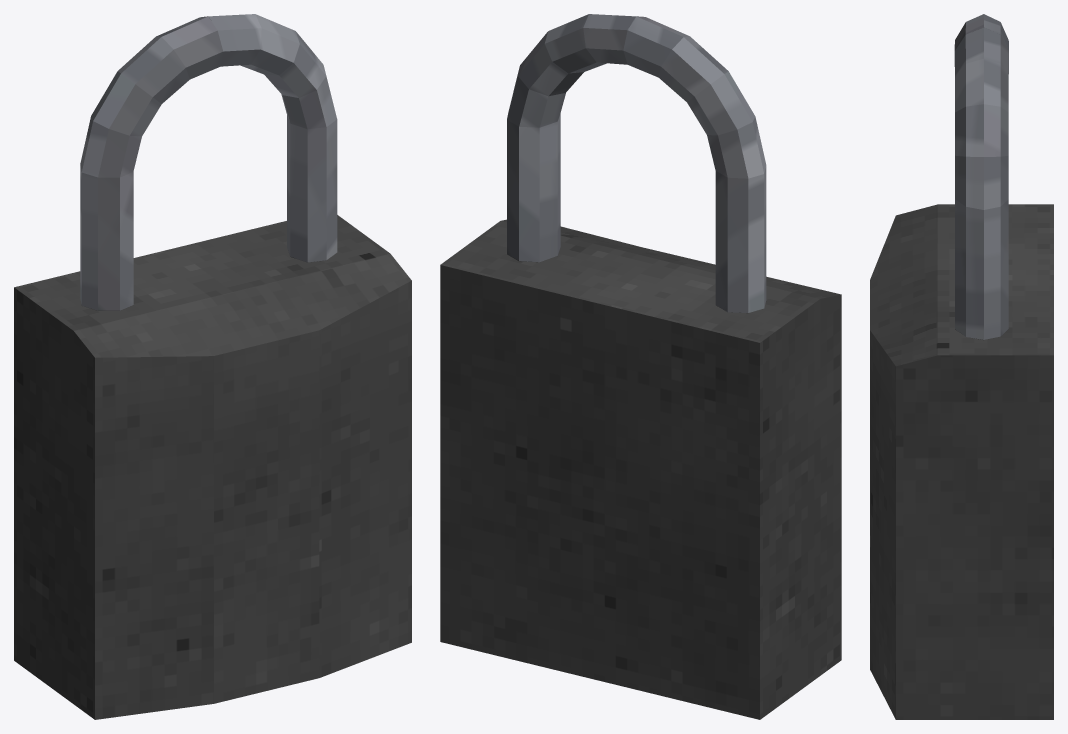
Rendered from KeyLock.glb.
3 views of the same model, side by side, from view 1: azimuth 30°, elevation 25°; view 2: azimuth 150°, elevation 25°; view 3: azimuth 270°, elevation 25° (orthographic). The views are drawn at different scales.
Visible parts, largest first — view 1: Lock1; view 2: Lock1; view 3: Lock1.
Boxes of the visible parts, <box> form: Lock1: <box>14,14,411,719</box>; Lock1: <box>440,14,841,719</box>; Lock1: <box>870,14,1053,719</box>.
Size of the model in its own units: 0.1531 by 0.2919 by 0.0788.
Materials: 2 (2 with a texture image).
